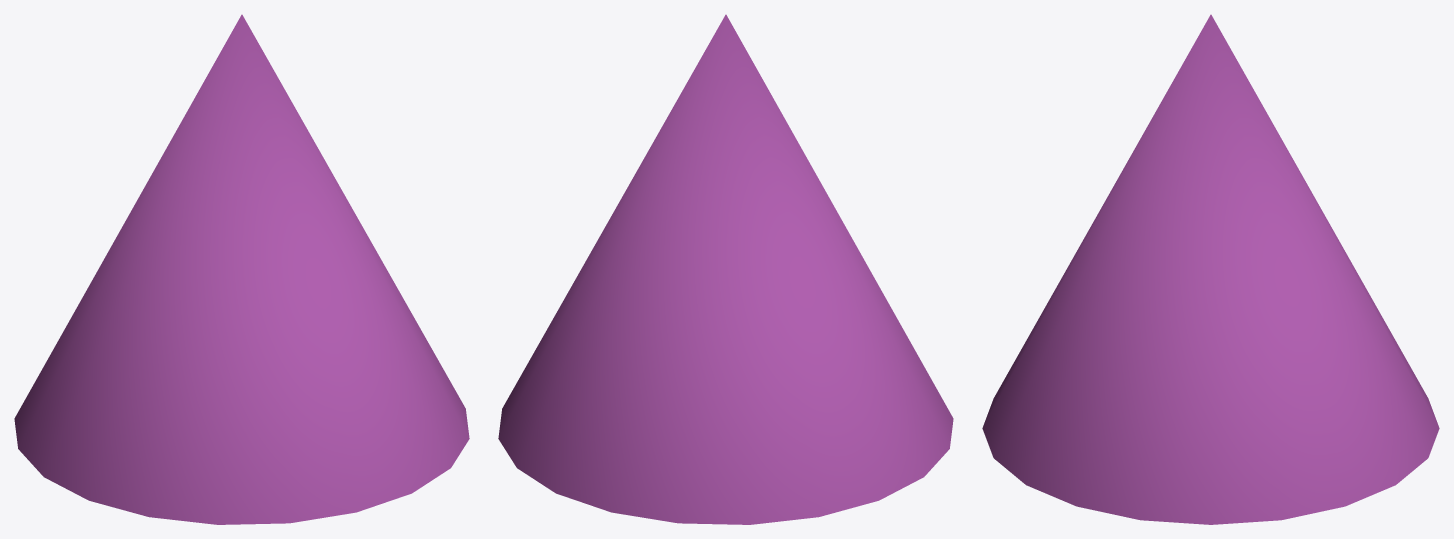
The model's file is Cono.fbx.
3 views of the same model, side by side, from view 1: azimuth 30°, elevation 25°; view 2: azimuth 150°, elevation 25°; view 3: azimuth 270°, elevation 25° (orthographic).
Parts seen in each view (by area): view 1: pCone1; view 2: pCone1; view 3: pCone1.
Boxes of the visible parts, x1,y1,x2,y2 form: pCone1: [14, 14, 469, 524]; pCone1: [498, 14, 953, 524]; pCone1: [982, 14, 1439, 524].
Bounding box in the file's own units: 0.00128 × 0.00128 × 0.00128.
